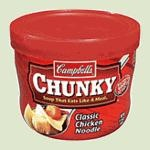grozi_111: (8, 9, 142, 141)
